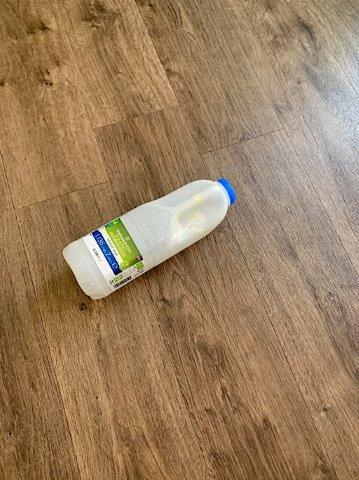botolplastik: (65, 178, 234, 298)
